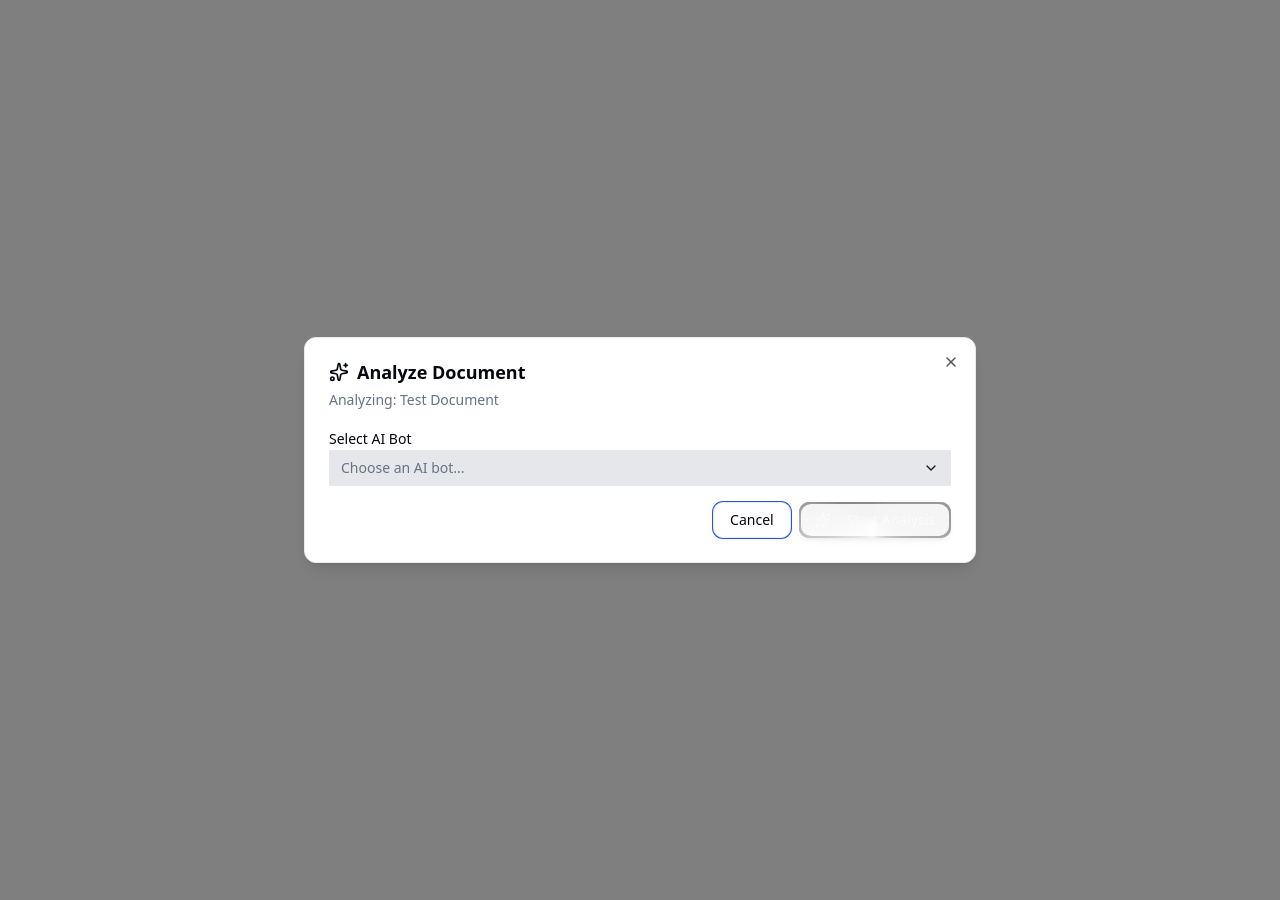
AnalyzeDocumentDialog › shows "New" badge for correspondent without id
Click the dropdown with test id "select-bot" at (403, 468), box [329,450,951,486]
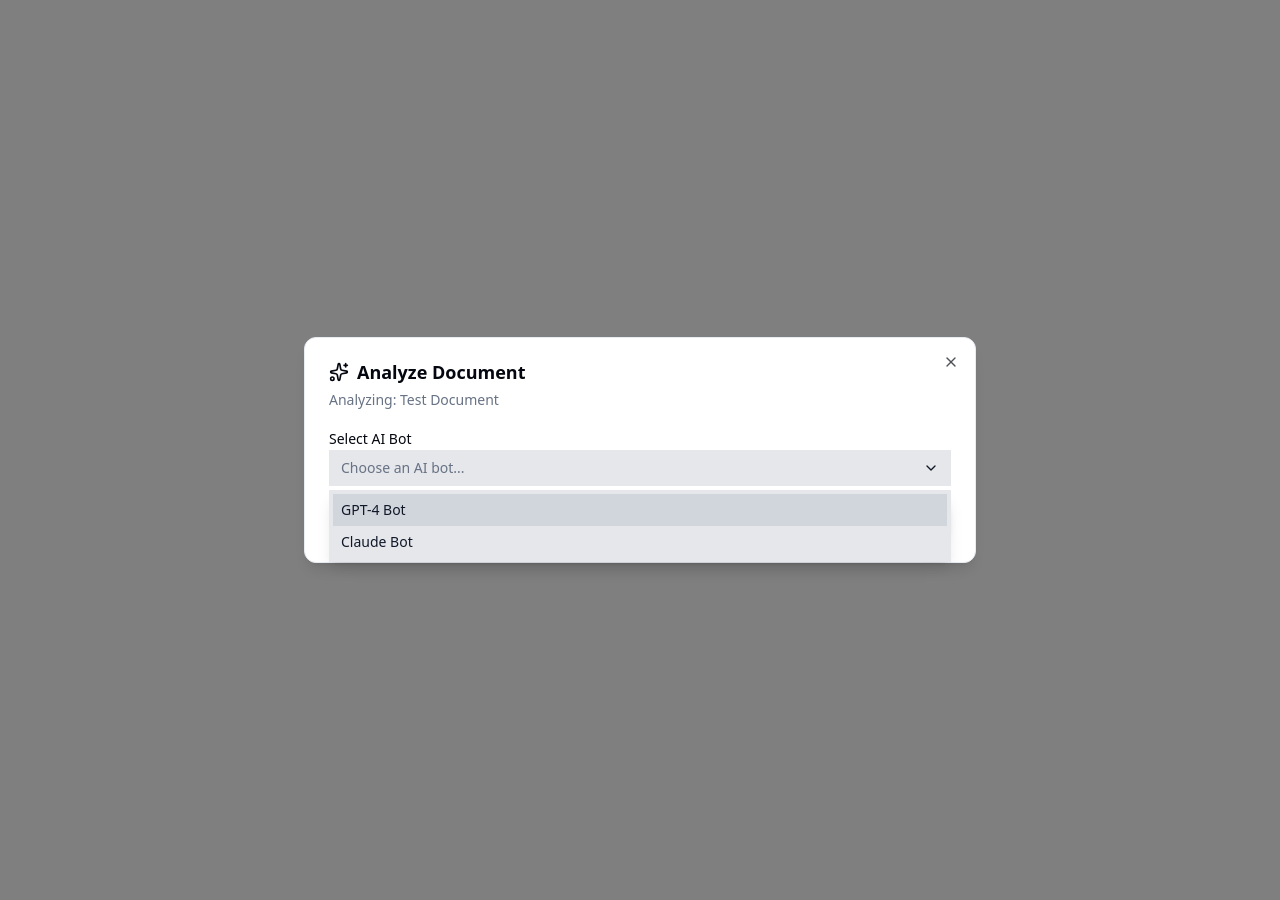
Click the option "GPT-4 Bot" at (373, 510), box [333,494,947,526]
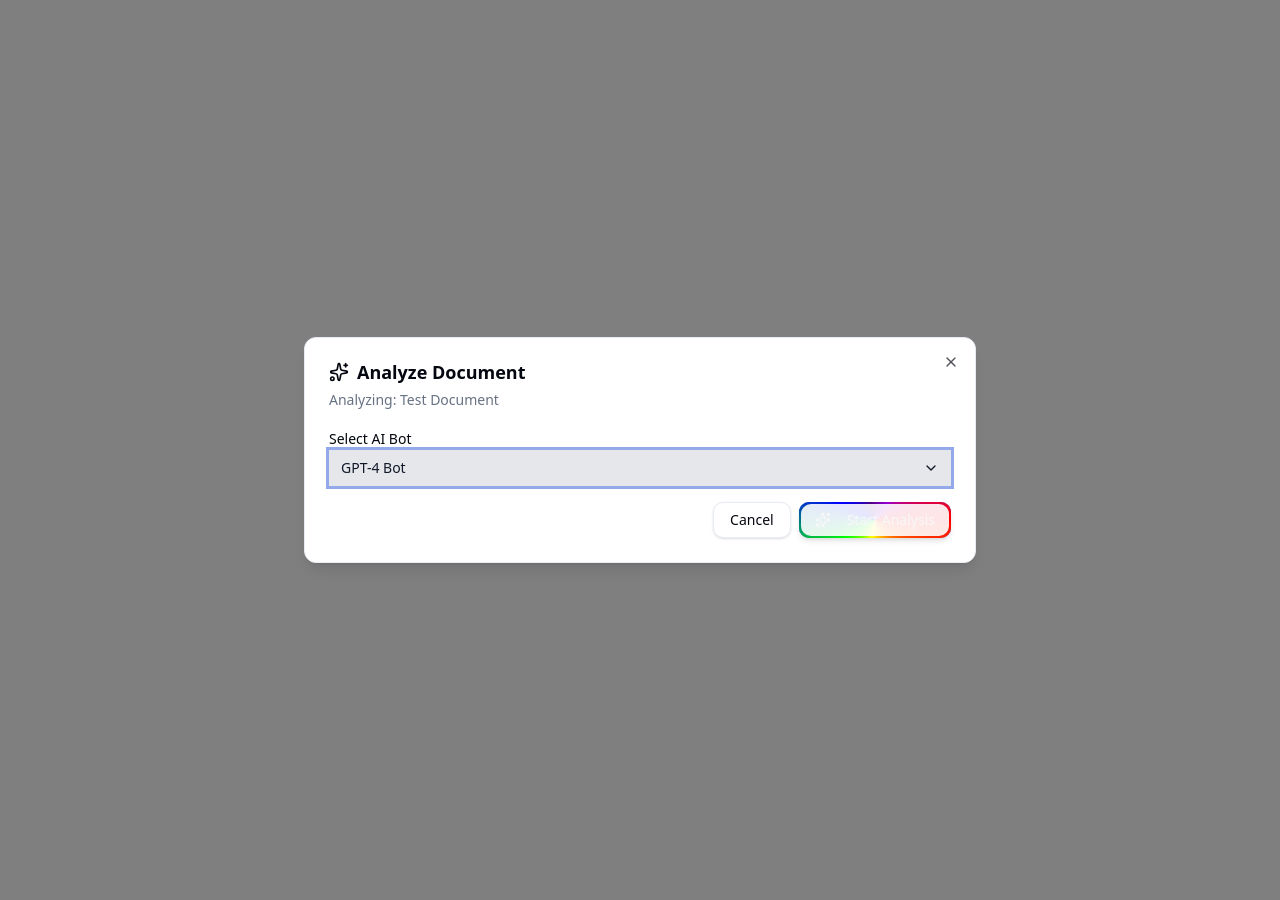
Click the button with test id "start-analysis" at (875, 520), box [799,502,951,538]
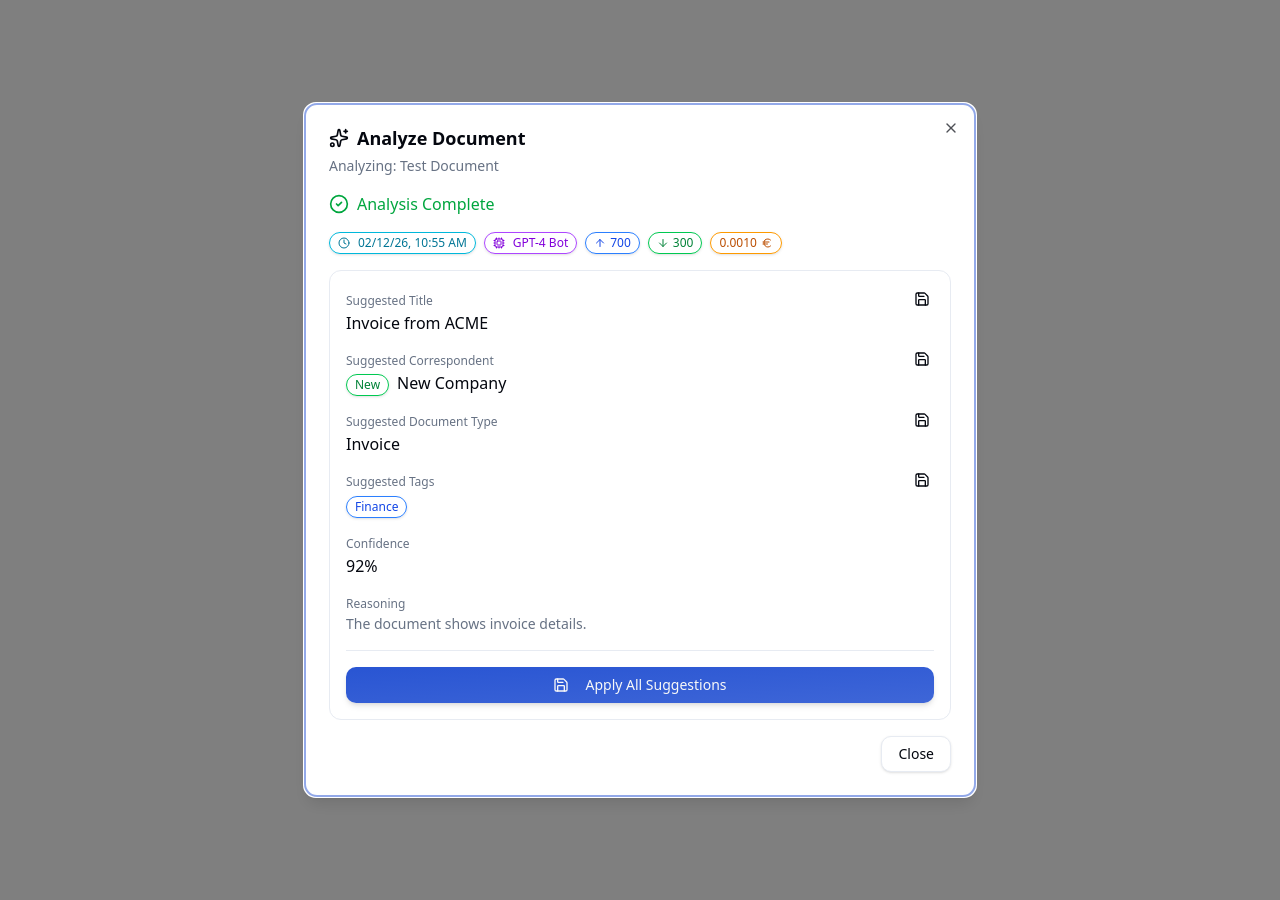
Expected: the text "New" is shown, [346,374,389,396]
Expected: the text "New Company" is shown, [397,372,506,394]
